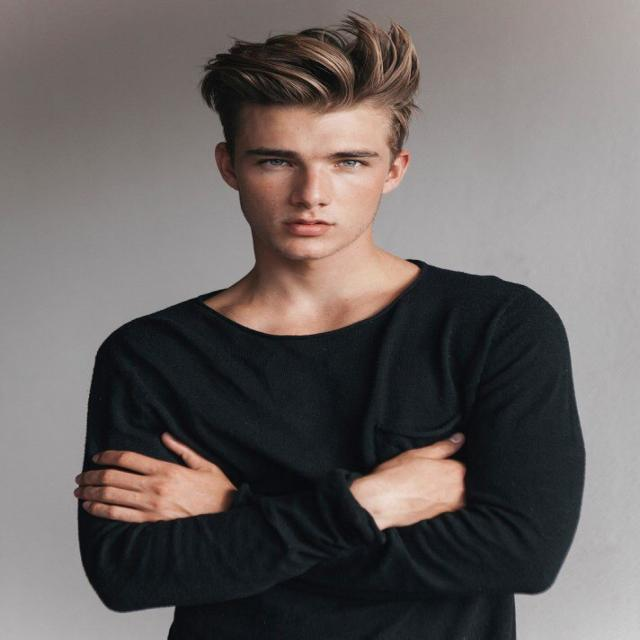earlobe: (382, 178, 395, 194), (228, 176, 240, 190)
eye: (334, 160, 365, 168), (262, 158, 292, 166)
nose: (291, 201, 330, 220)
wholeear: (382, 149, 411, 195), (214, 142, 240, 190)
